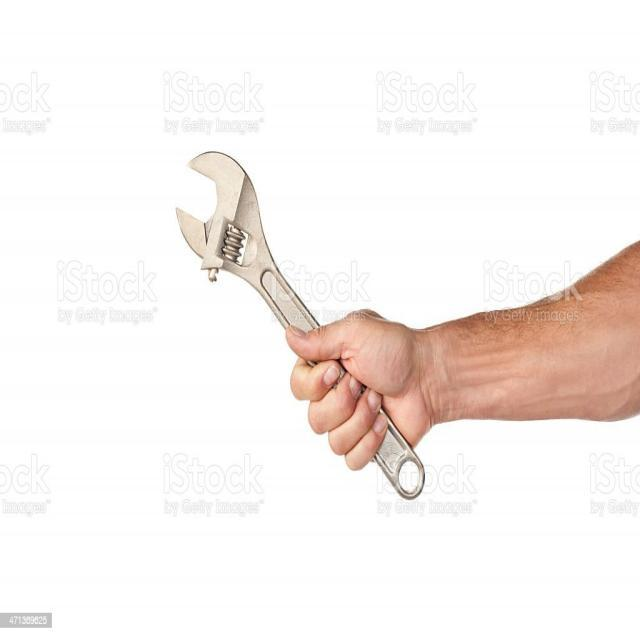wrench: (174, 147, 426, 502)
